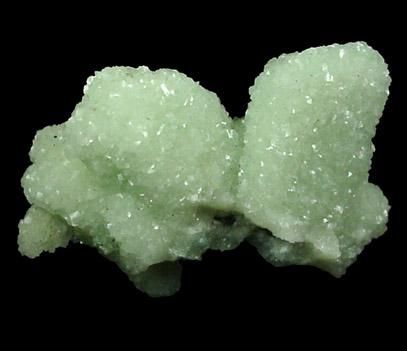prehnite: (17, 41, 393, 300)
